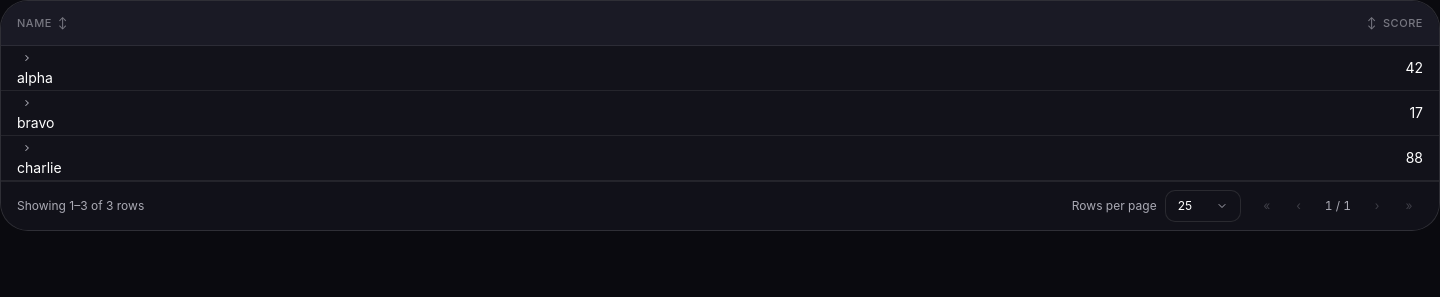
Test: DataTable — renderExpanded detail rows › adds an expand caret per row; clicking shows the detail
Click the button named "Expand row" in the row of "42" at (27, 58), box [17,48,37,68]
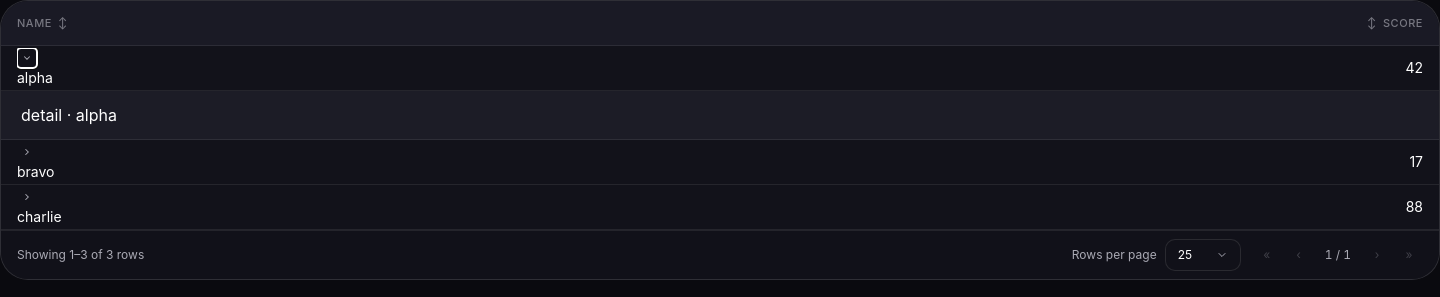
Expected: the text "detail · alpha" is shown, [21,105,117,125]
